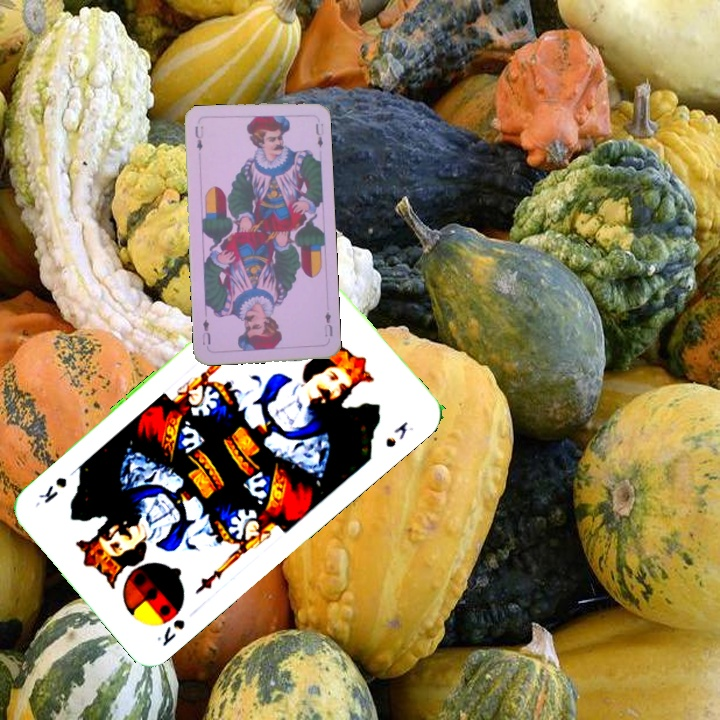EU: (191, 121, 206, 153), (320, 308, 335, 339)
SK: (152, 615, 188, 649)
